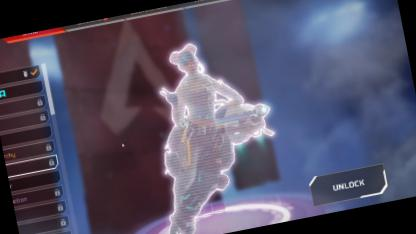Target: (160, 39, 238, 203)
